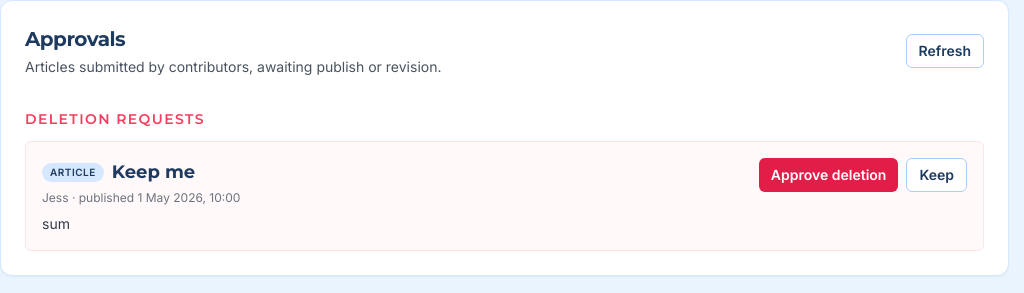
ApprovalsQueue › cancels deletion via keepArticle and removes the item
Click the button "Keep".
click(937, 175)  # box [906, 158, 967, 192]
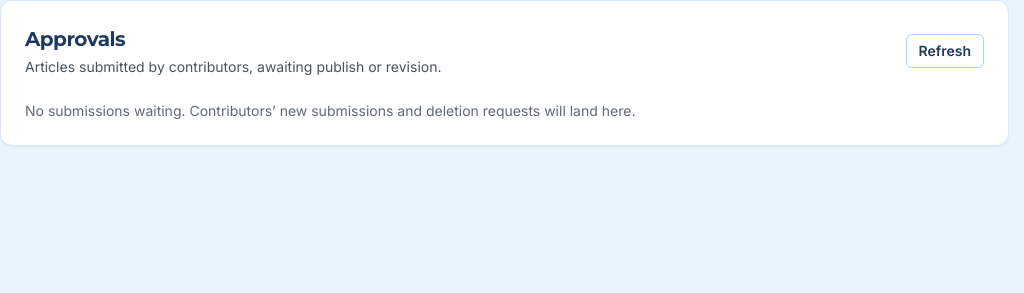
Result: the text "Keep me" is gone
